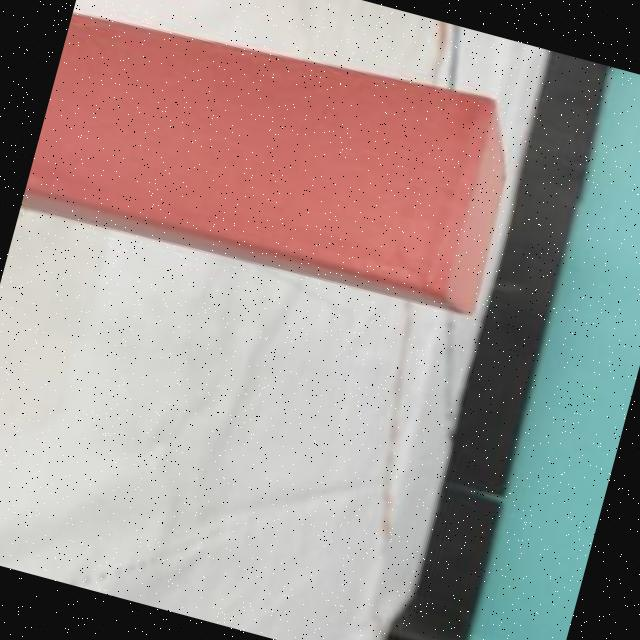redbox: (20, 0, 533, 326)
